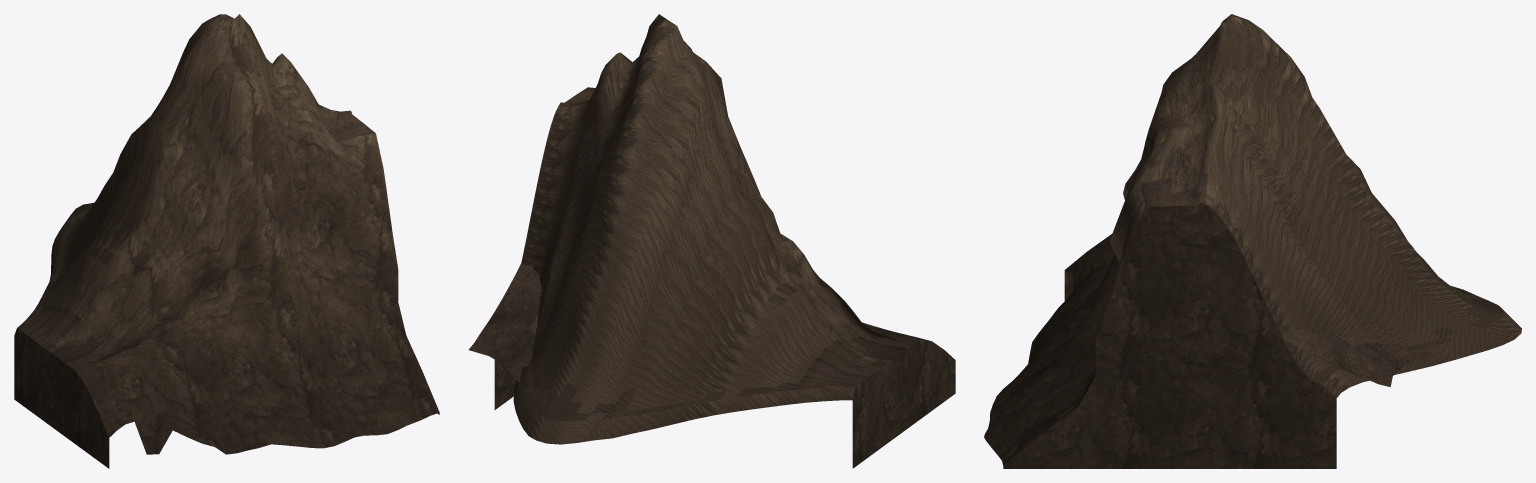
The model's file is seacliff_endcap_left_h3_a_v5_dead.glb.
The picture shows the model from 3 angles, left to right: view 1: azimuth 30°, elevation 25°; view 2: azimuth 150°, elevation 25°; view 3: azimuth 270°, elevation 25°; orthographic projection. The views are drawn at different scales.
Parts seen in each view (by area): view 1: seacliff_endcap_left_h3_a; view 2: seacliff_endcap_left_h3_a; view 3: seacliff_endcap_left_h3_a.
Boxes of the visible parts, x1,y1,x2,y2 form: seacliff_endcap_left_h3_a: (14, 14, 439, 468); seacliff_endcap_left_h3_a: (469, 14, 955, 468); seacliff_endcap_left_h3_a: (984, 14, 1521, 468).
Size of the model in its own units: 6 by 6.69 by 8.29.
2 materials, 2 textured.
